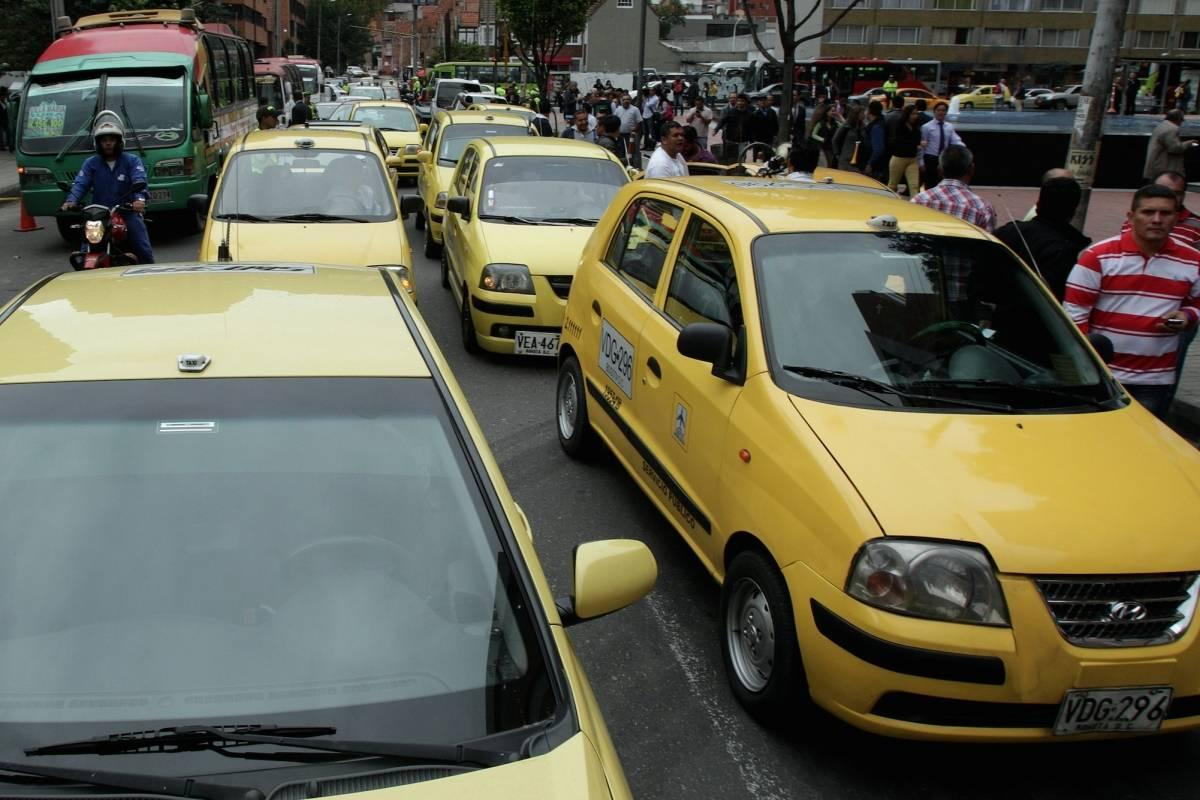taxi: (358, 193, 1006, 761)
